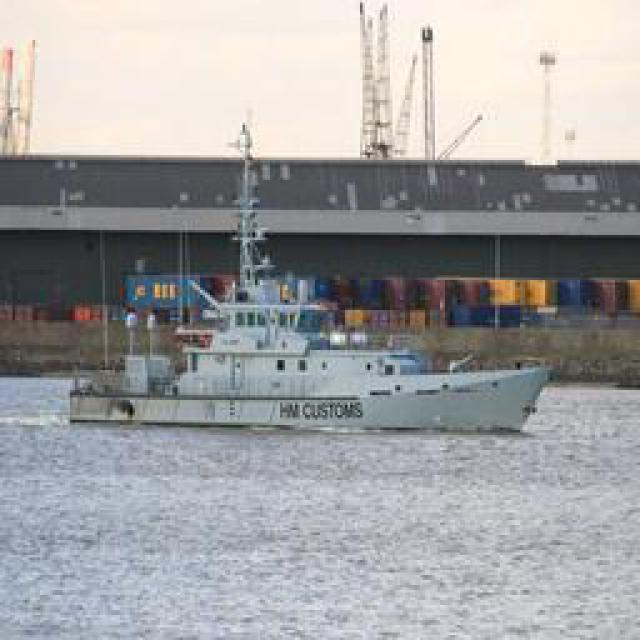Ship: (62, 320, 555, 435)
